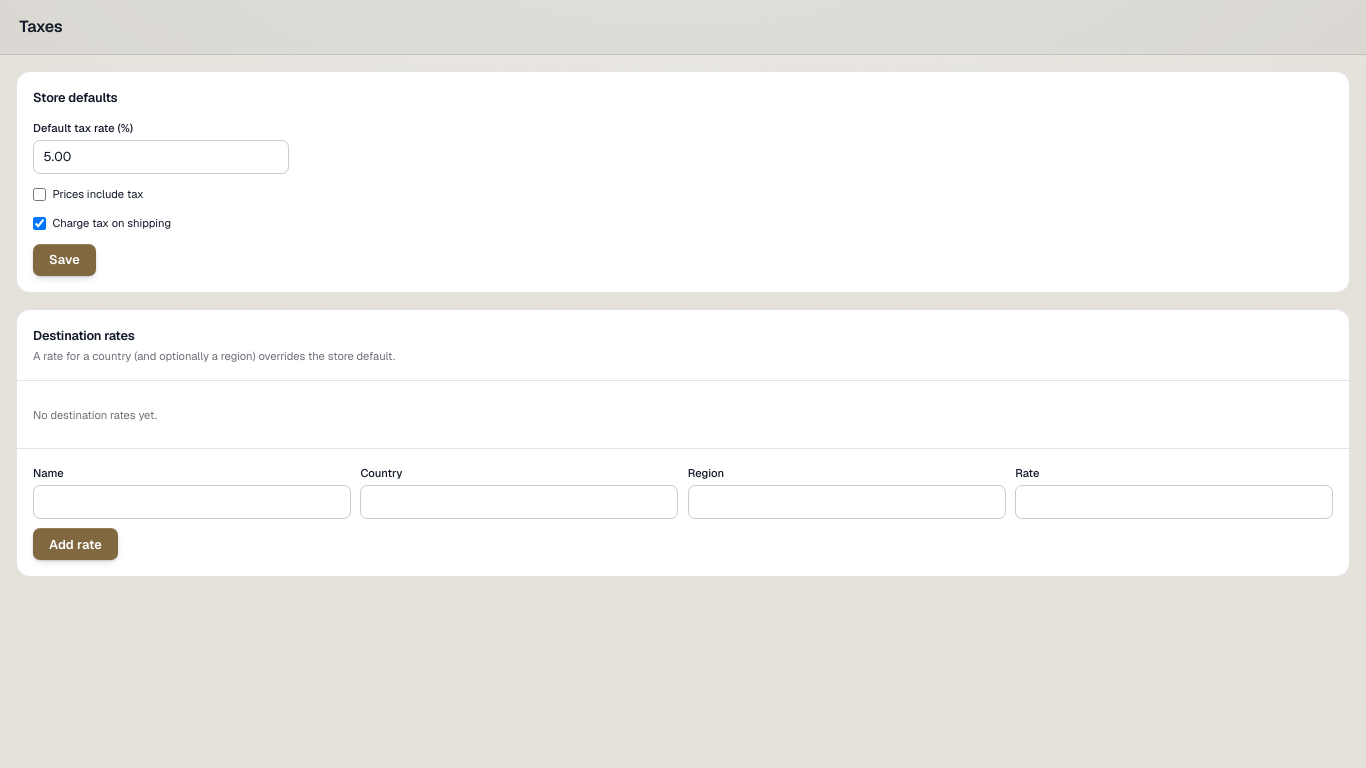
Test case: AdminTax › adds a rate and shows the server's complaint when it is refused
Expected: the text "No destination rates yet." is shown, [33,408,157,422]
Type "Germany" into the field labelled "Country" at (519, 502), box [360,485,678,519]
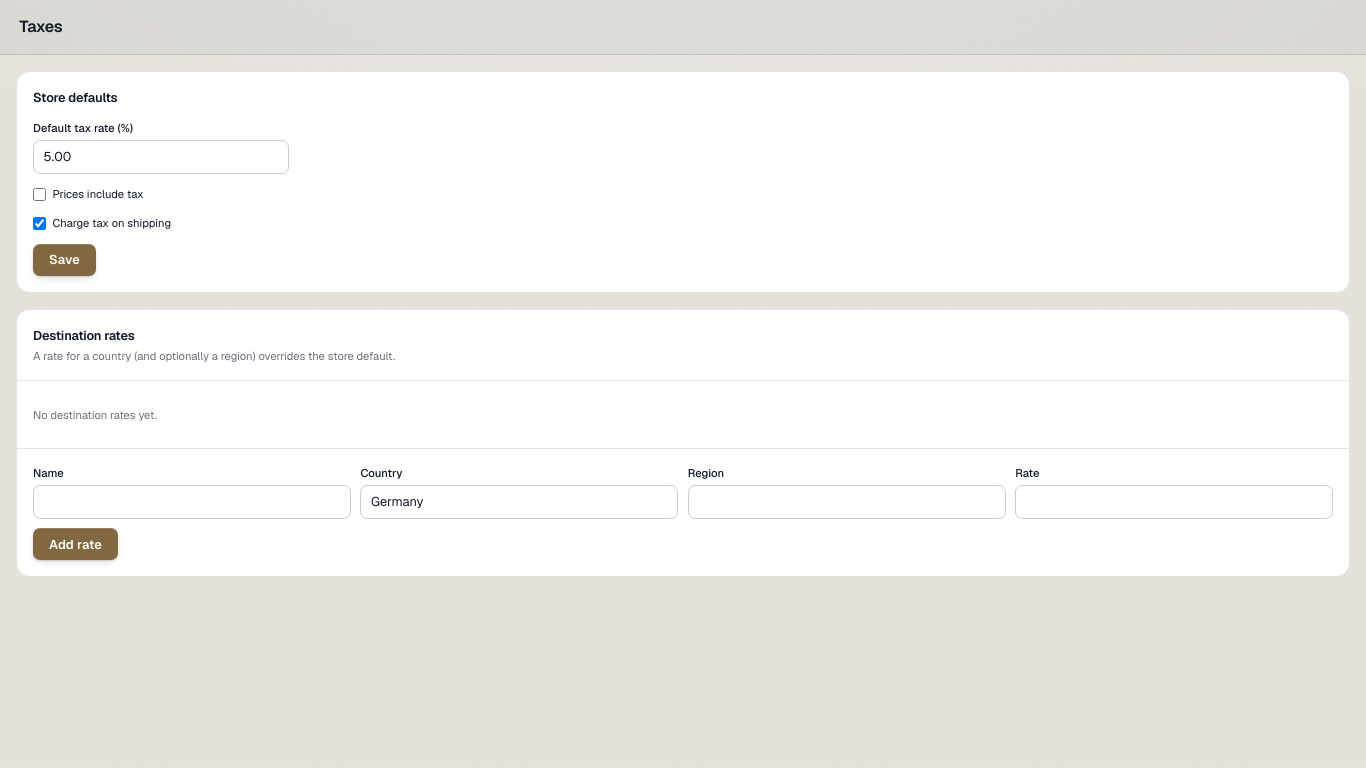
Type "19" into the field labelled "Rate" at (1174, 502), box [1015,485,1333,519]
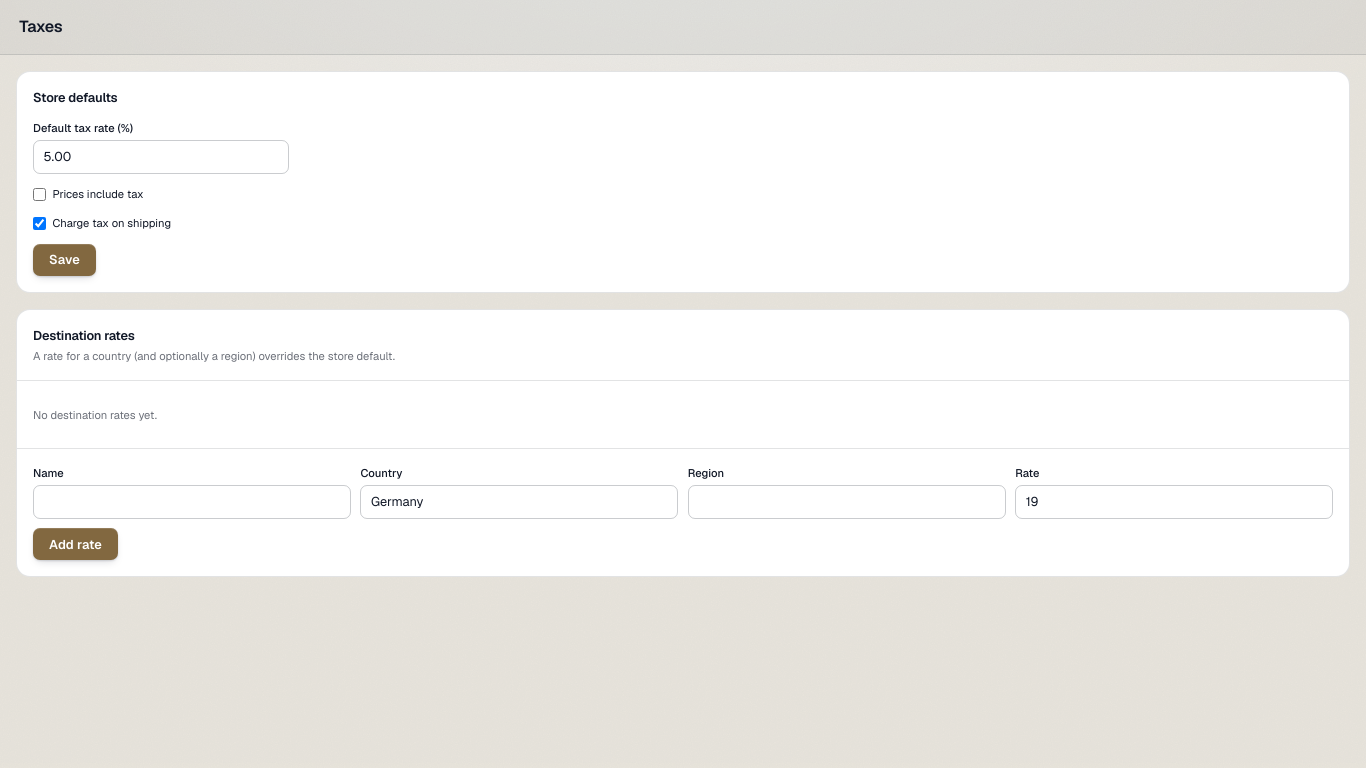
Click the button "Add rate" at (76, 544), box [33,528,118,560]
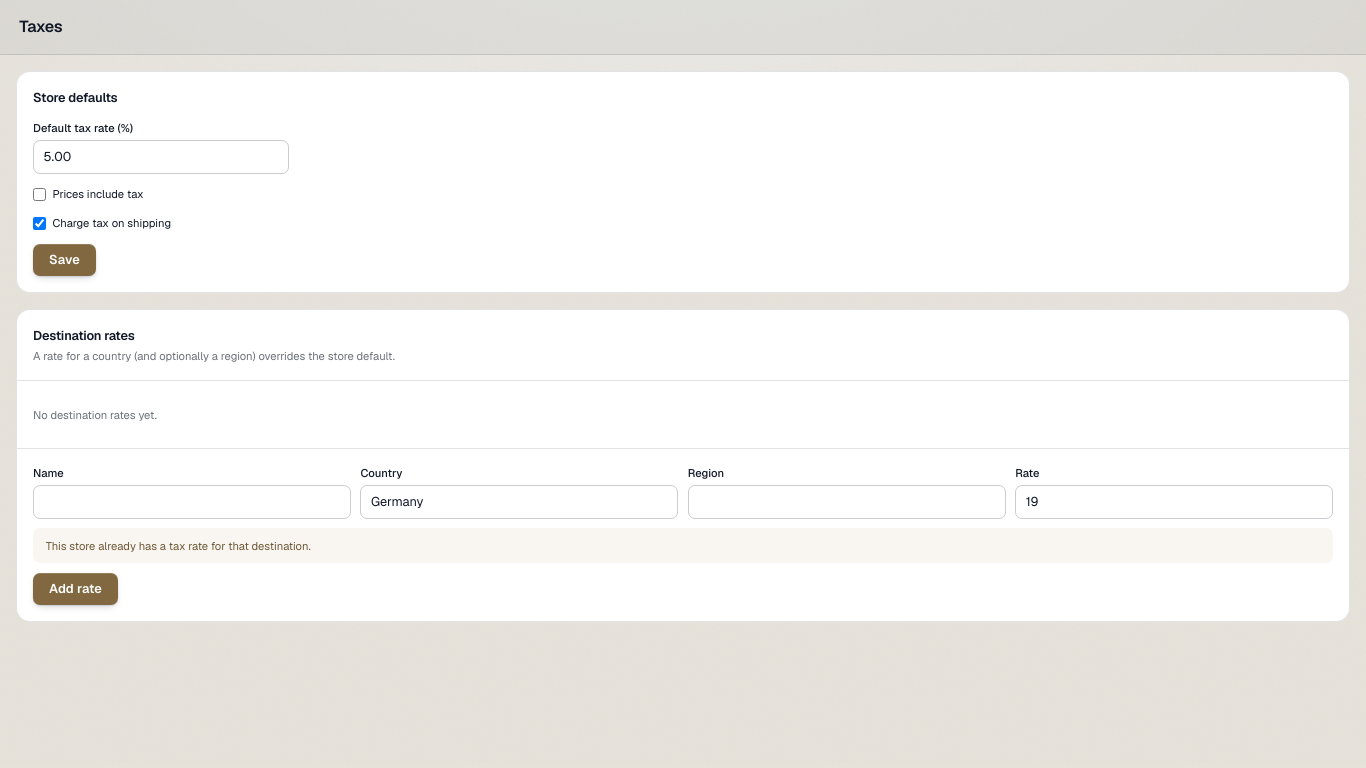
Now the message reads "This store already has a tax rate for that destination.", box [46,539,311,553]
